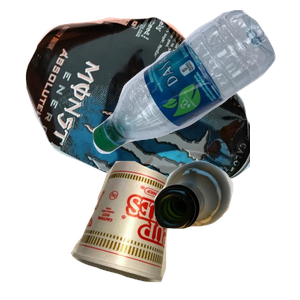glass: (151, 158, 300, 300)
metal: (23, 15, 263, 195)
plastic: (90, 10, 300, 156)
trash: (68, 158, 235, 300)
